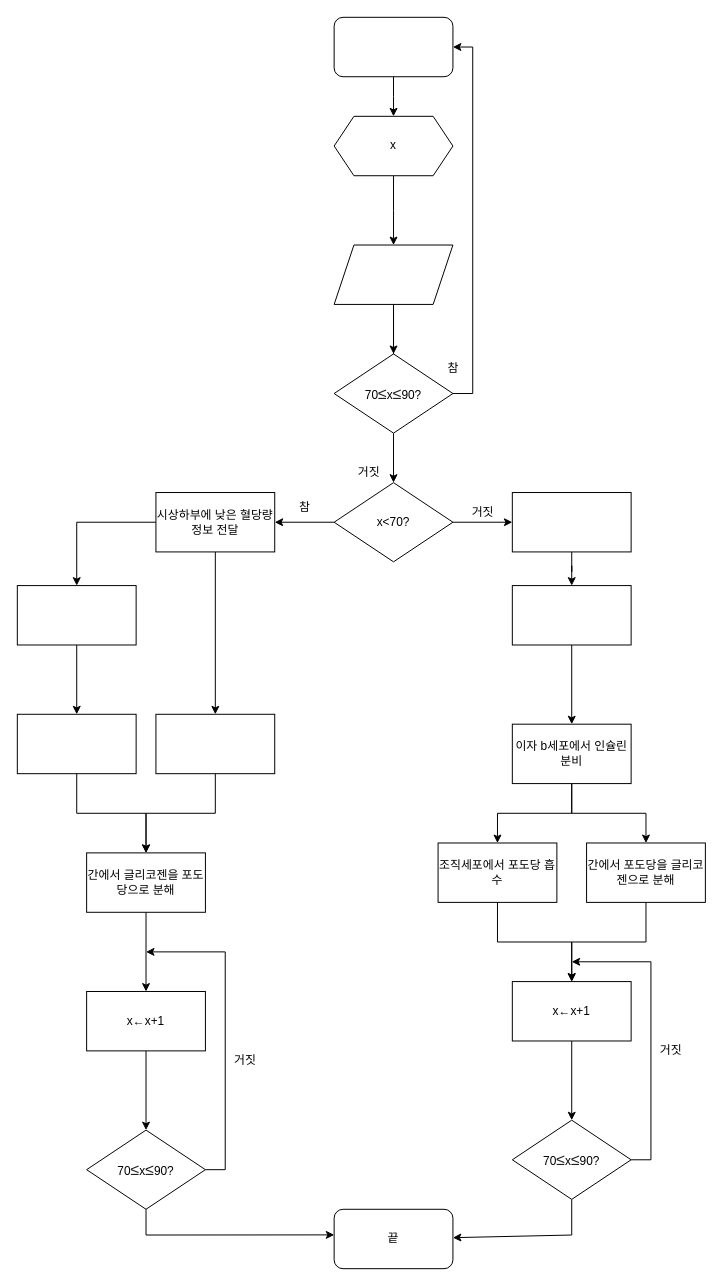
The diagram is 723 pixels wide and 1286 high, and some of its shapes have lost their labels. Here are the shapes that lost their labels. From the top down, the centre of each, then its label:
At point 393,46: "시작".
At point 393,274: "공복 혈당 x 입력".
At point 571,522: "시상하부에 높은 혈당량 정보 전달".
At point 76,615: "교감신경 활성화".
At point 571,615: "부교감신경 활성화".
At point 76,743: "부신 속질에서 에피네프린 분비".
At point 215,743: "이자 a세포에서 글루카곤 분비".
